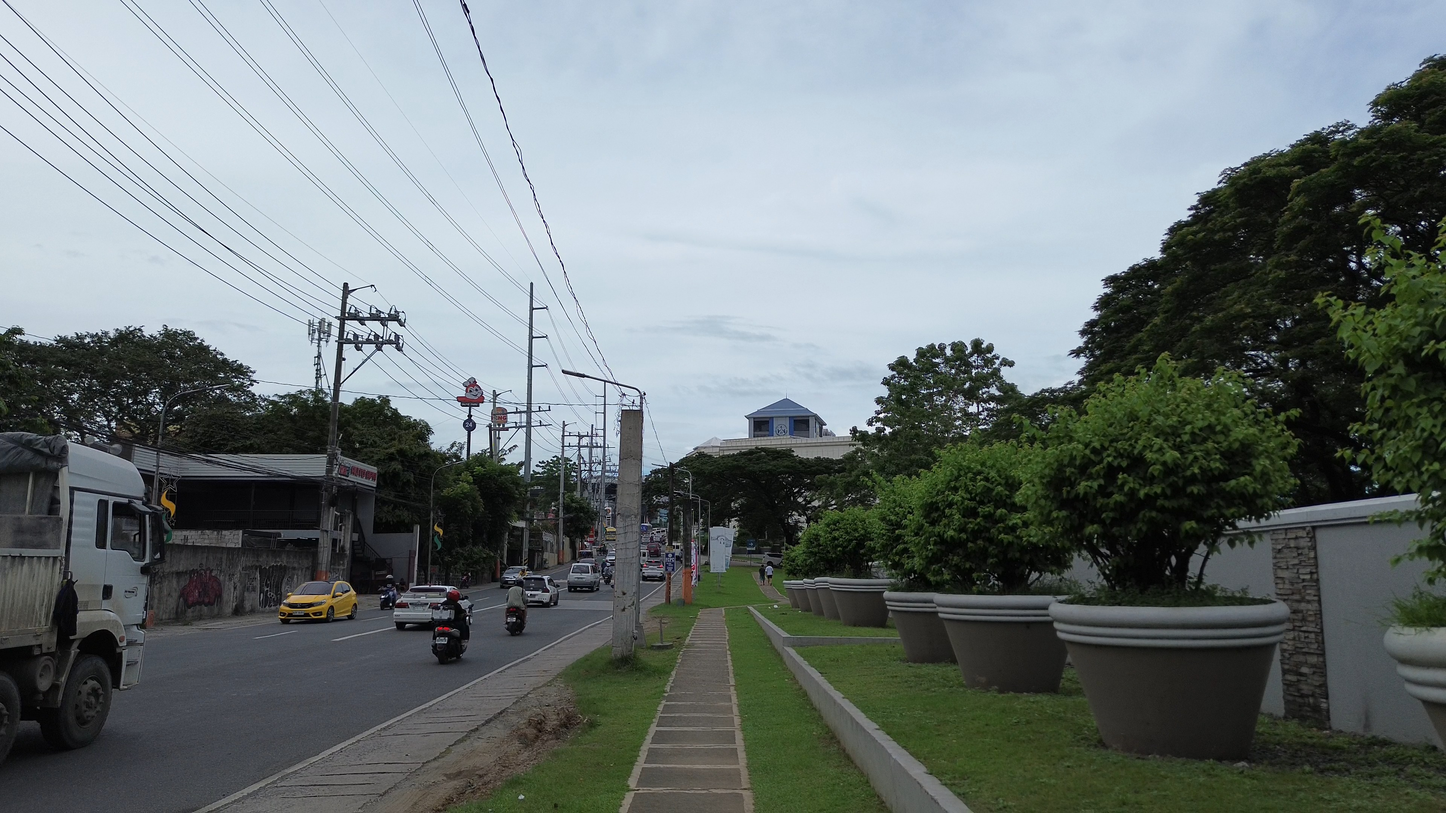car: (278, 581, 358, 623), (393, 585, 457, 629), (522, 575, 560, 606), (567, 561, 601, 591), (500, 566, 528, 588)
motorcycle: (433, 610, 467, 663), (380, 586, 398, 610)
truck: (0, 432, 168, 761)
vehicle: (432, 609, 467, 664), (505, 608, 525, 635), (641, 560, 666, 581), (379, 585, 398, 610), (645, 541, 663, 559), (604, 526, 616, 542)
